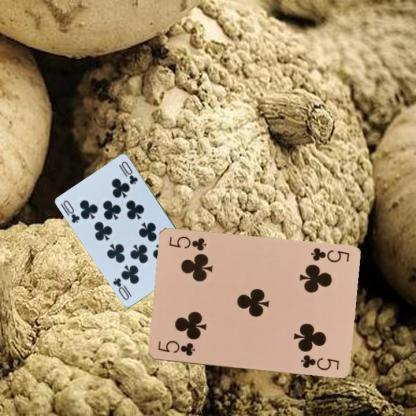10c: (61, 198, 82, 224)
5c: (307, 246, 351, 264), (155, 338, 196, 357)
